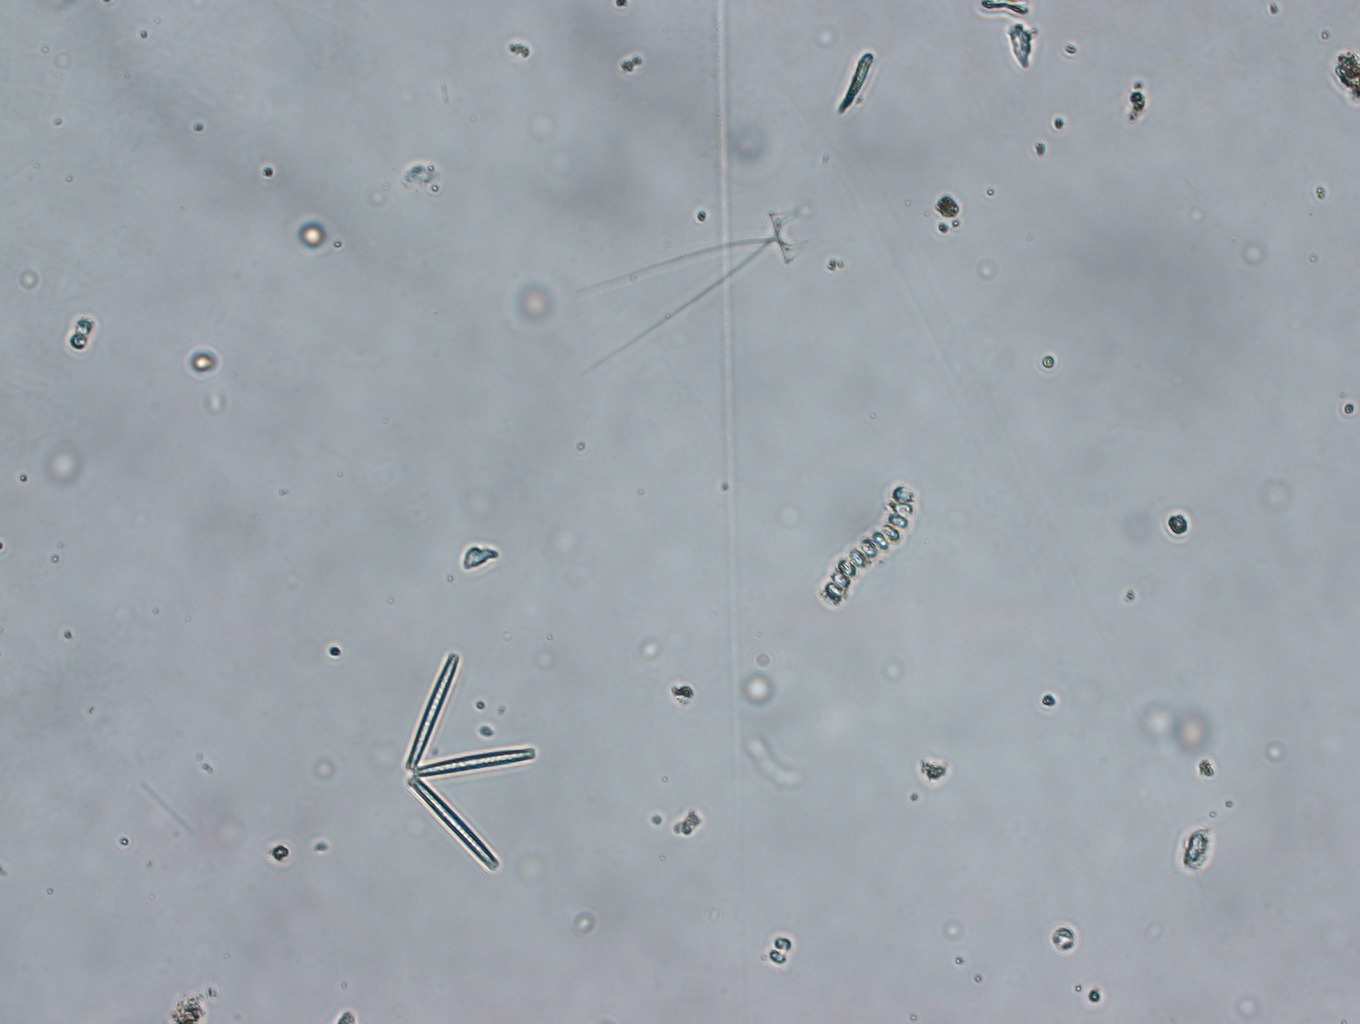chaetoceros: (582, 205, 805, 361)
skeletonema: (821, 478, 916, 613)
thalassionema nitzschioides: (400, 653, 536, 869)
